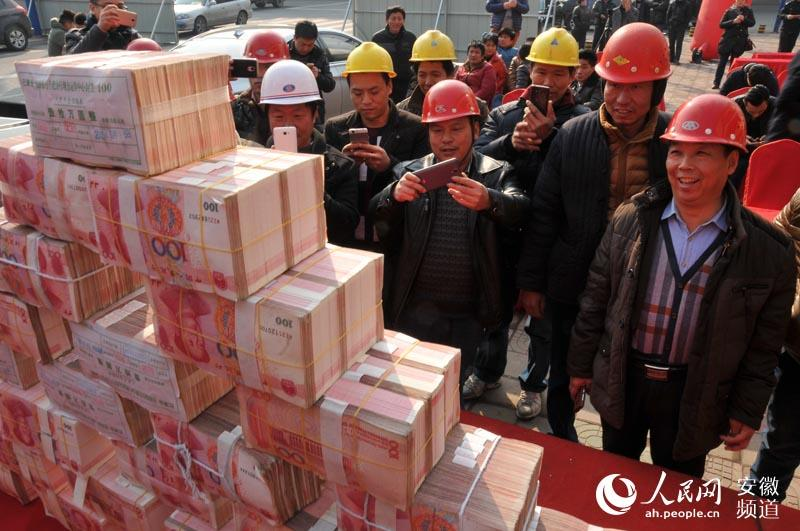helmet: (659, 95, 751, 151), (740, 139, 798, 222), (597, 23, 673, 85), (260, 61, 326, 106), (422, 84, 485, 125), (529, 29, 582, 69), (341, 42, 397, 79), (413, 29, 458, 67), (121, 36, 169, 65), (247, 31, 291, 62)
